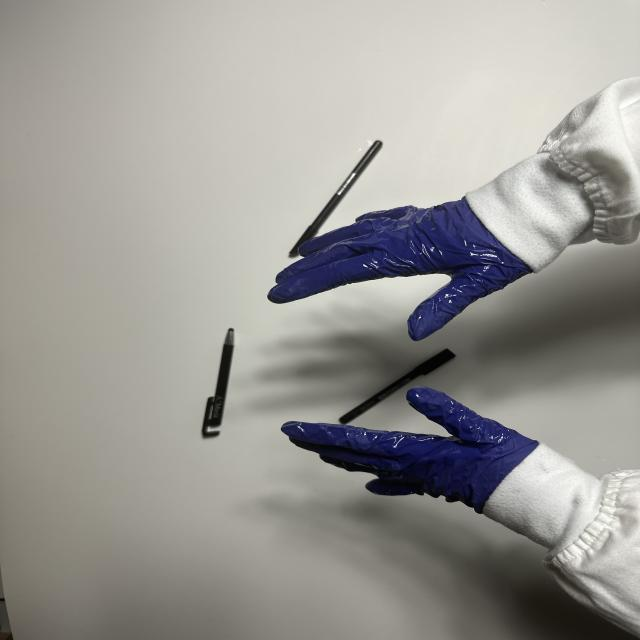gloves_contaminated: (268, 198, 532, 340), (282, 387, 539, 513)
